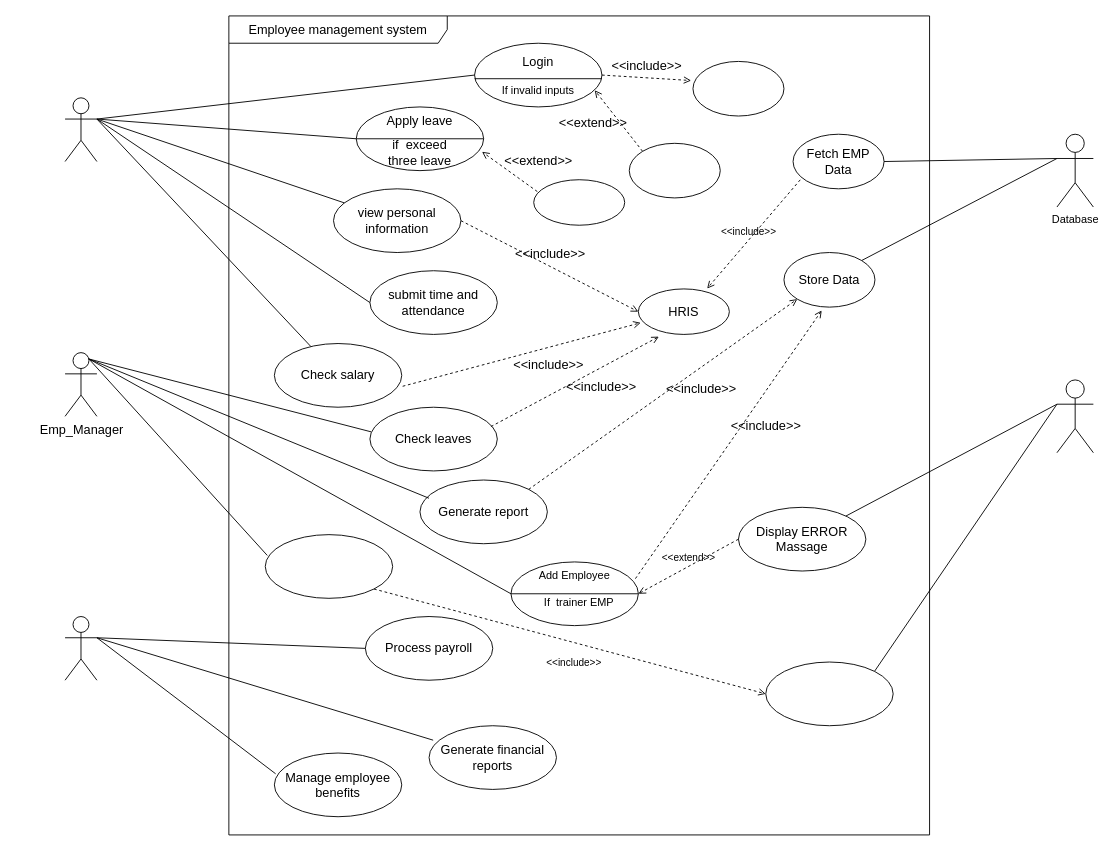
Image size: 1114x851. Some labels were removed from this diagram. The centre of each missing label's shape, as x and y in pixels:
"Accounting department" goes at [80,648].
"Approve leaves" goes at [328,566].
"Display massage" goes at [579,202].
"Empoyee" goes at [80,129].
"Fill login form" goes at [738,88].
"Fill login/register form" goes at [674,170].
"Send confirmation massage" goes at [829,693].
"Twill" goes at [1074,416].
